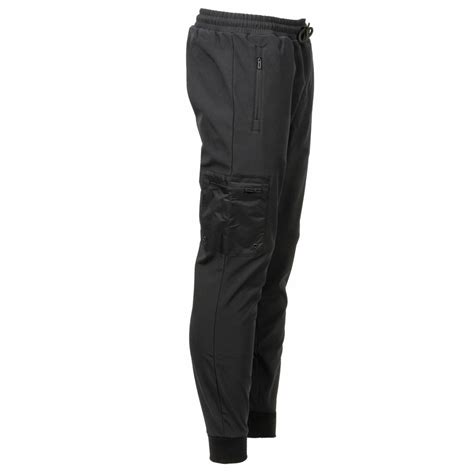nylon: (187, 8, 316, 437)
